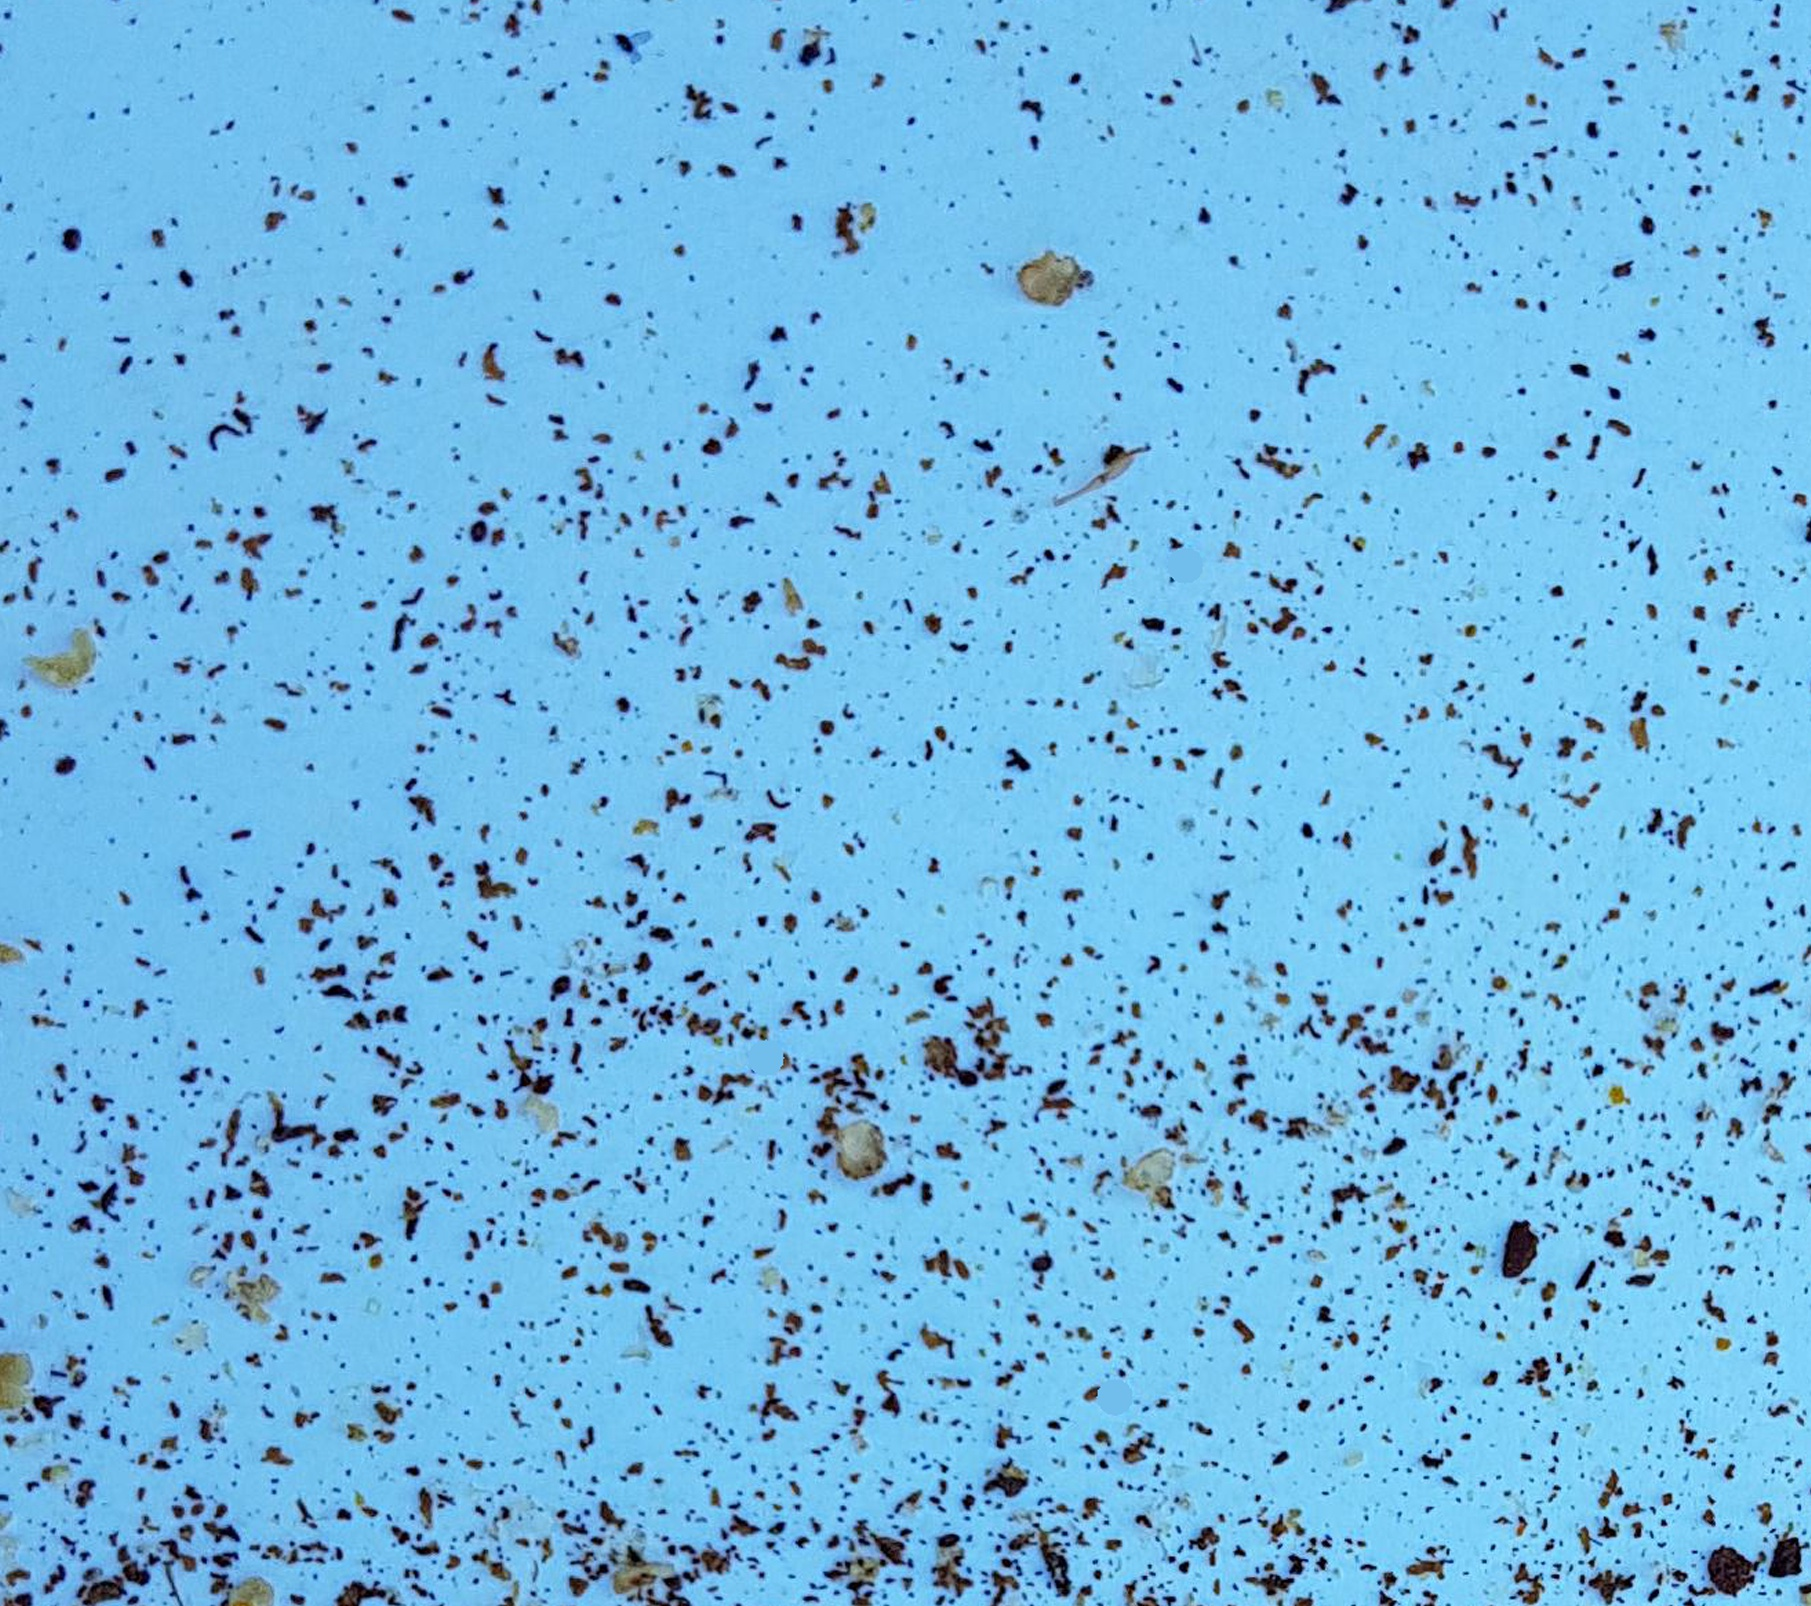Varroa: (946, 1054, 989, 1098), (538, 963, 580, 1006), (54, 756, 84, 787), (60, 225, 88, 256), (1034, 1251, 1061, 1277), (468, 508, 495, 535), (943, 1528, 968, 1553)
